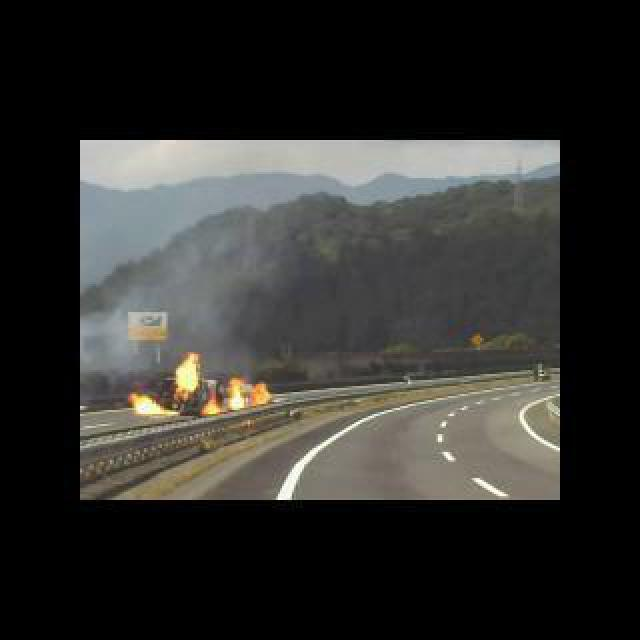fire: (134, 362, 266, 419)
smoke: (100, 195, 284, 358)
